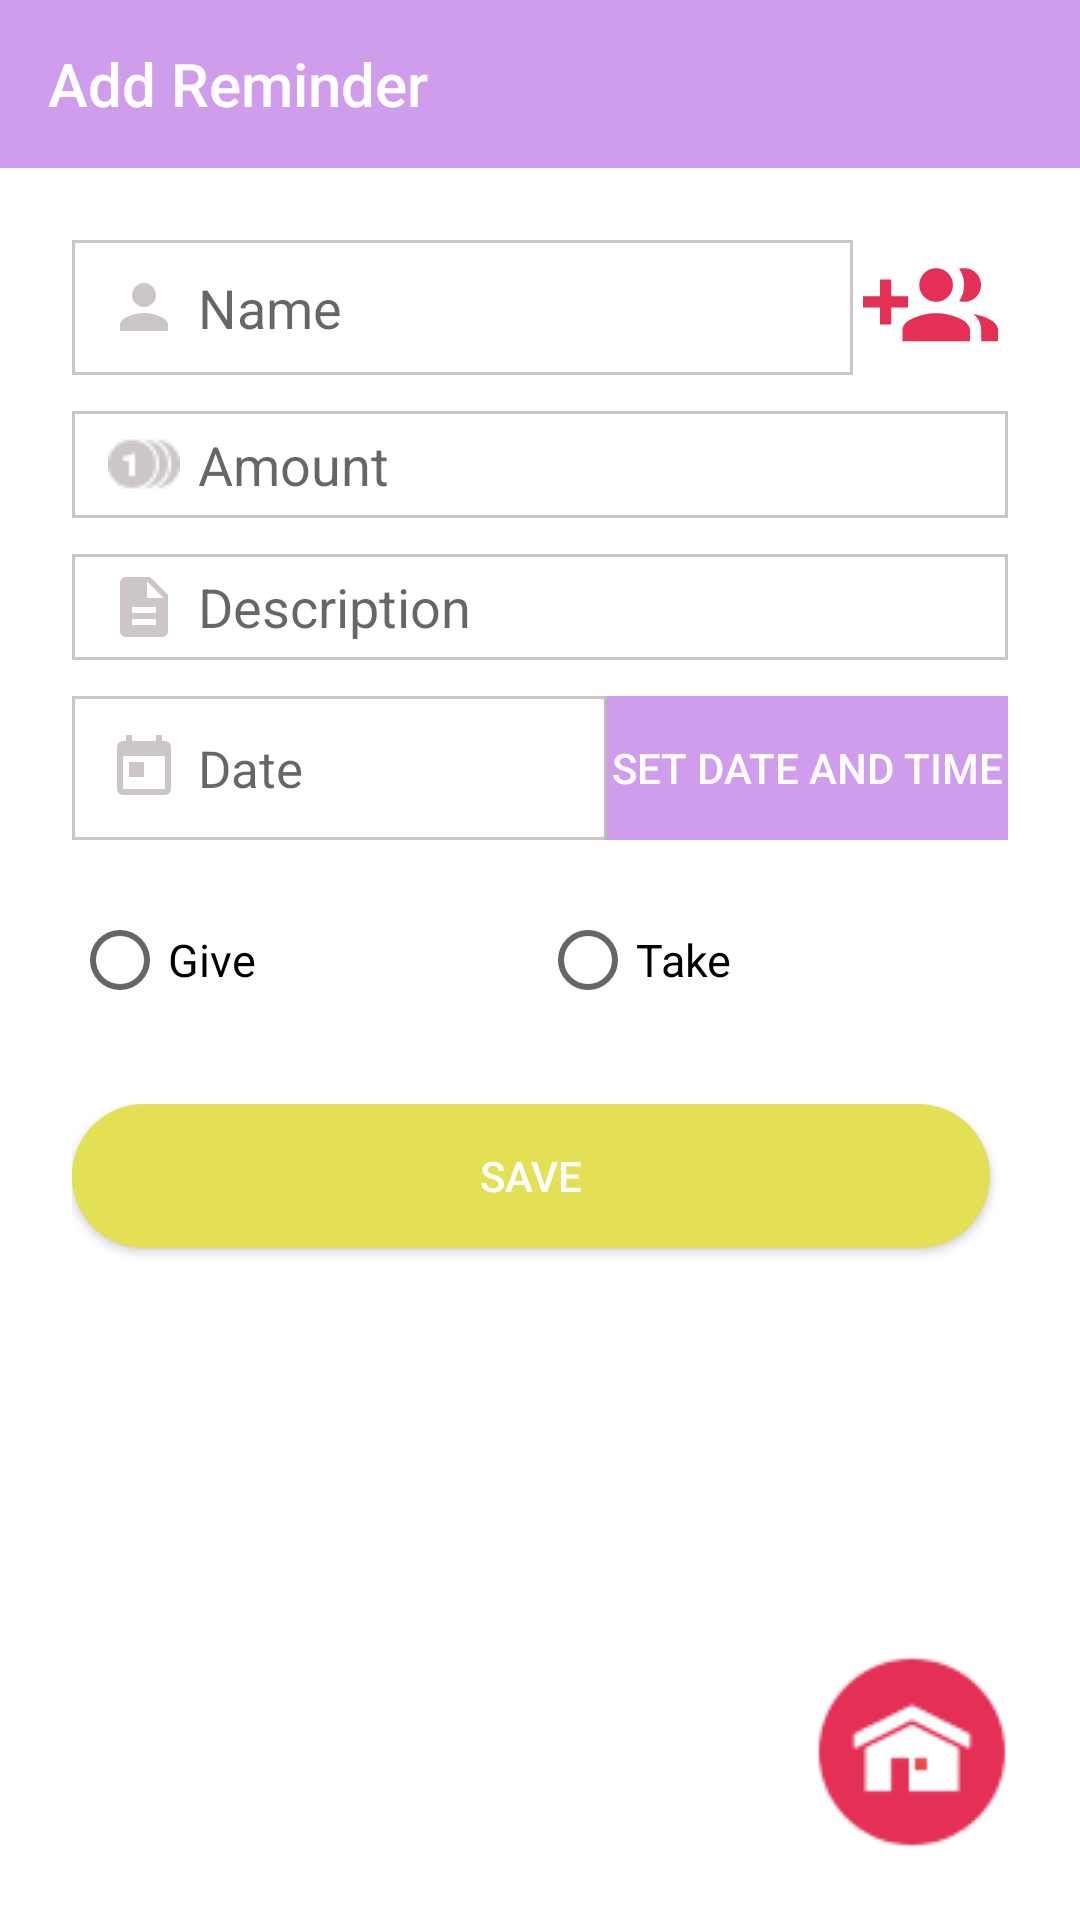

Locate icon controls on the screen. Image size 1080px x 1920px, boxes as region(x1, y1, x2, y2).
group add: region(863, 268, 998, 342)
home: region(818, 1658, 1006, 1846)
